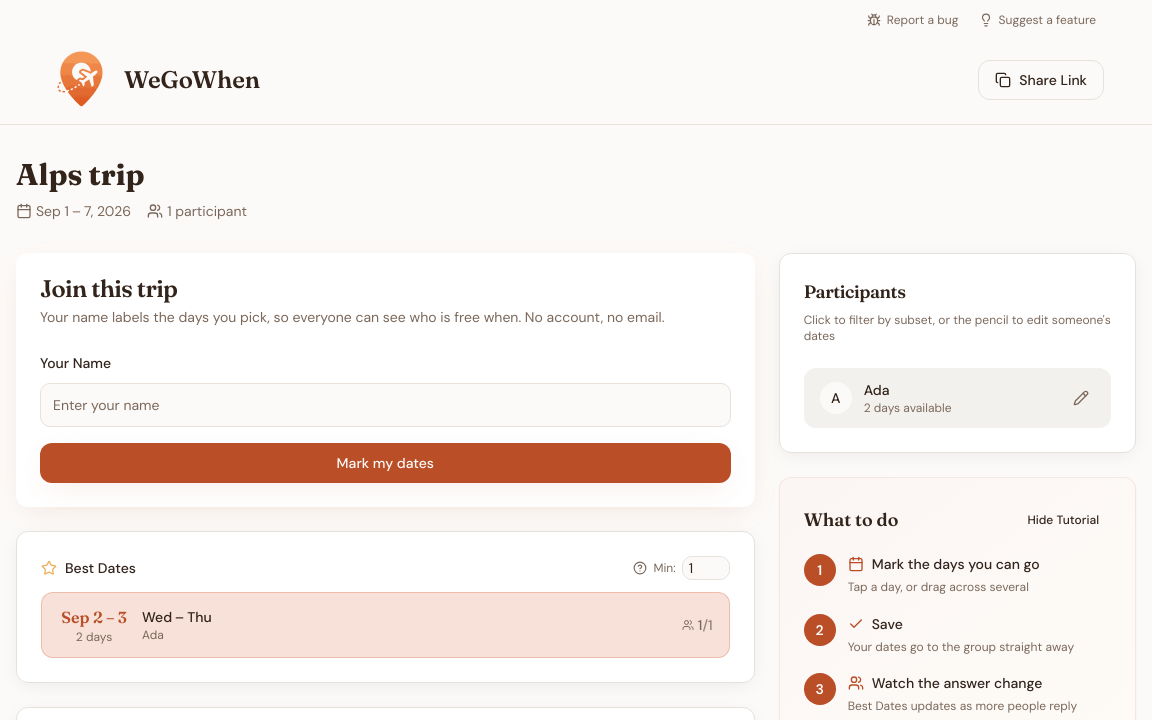
Test case: TripPage › prefills the availability of someone who already answered
The width and height of the screenshot is (1152, 720).
Expected: the heading "Alps trip" is shown, left=16, top=156, right=145, bottom=193
Type "ada" into the field labelled "Your Name".
click(385, 405); type("ada")  # box left=40, top=383, right=731, bottom=427
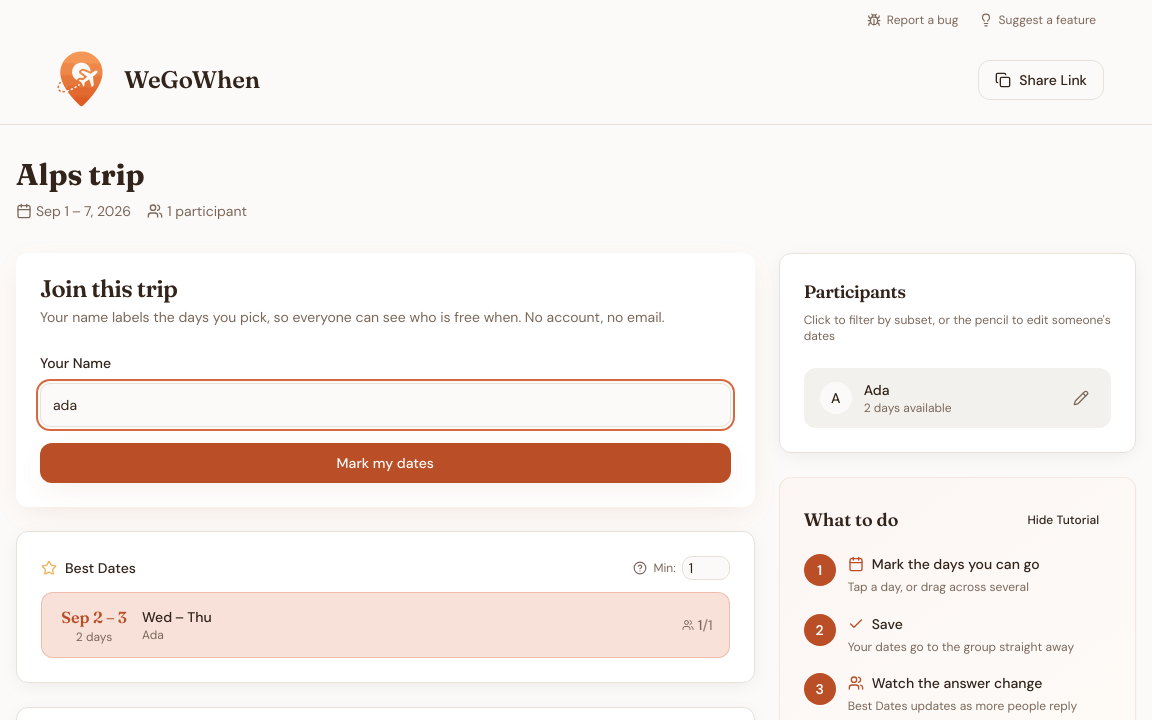
Click the button "Mark my dates".
click(385, 463)  # box left=40, top=443, right=731, bottom=483
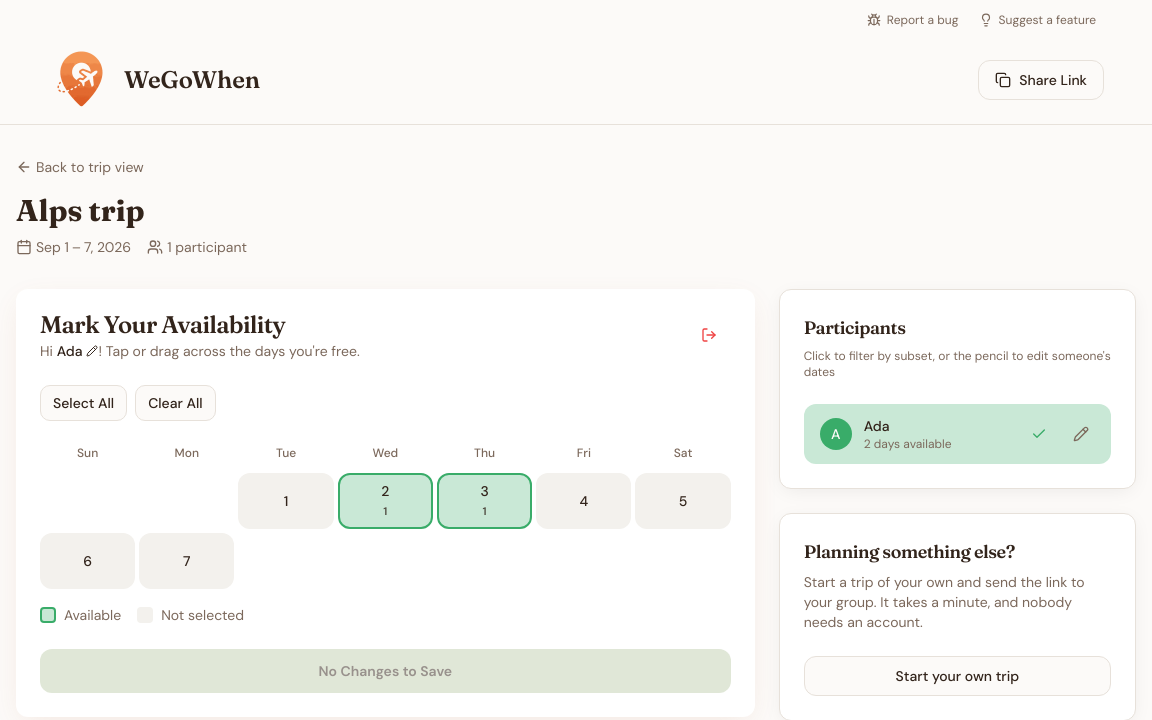
Now the button "No Changes to Save" is disabled, box left=40, top=649, right=731, bottom=693
